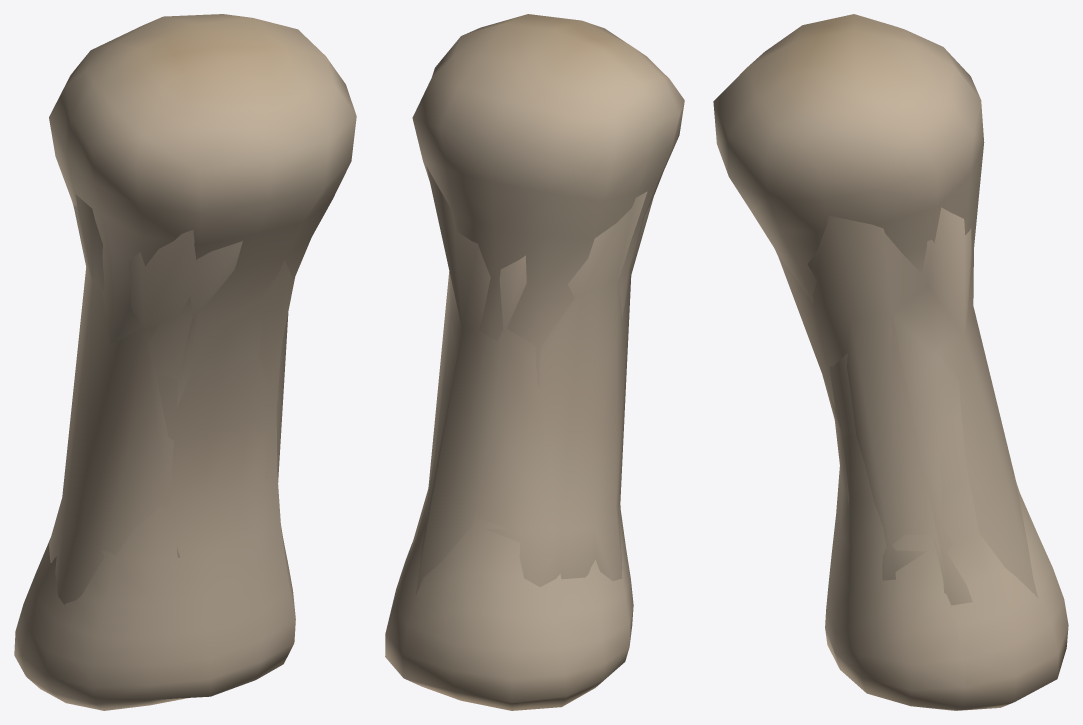
The model's file is vertebrae caudales 12.fbx.
3 renders of one model, left to right at view 1: azimuth 30°, elevation 25°; view 2: azimuth 150°, elevation 25°; view 3: azimuth 270°, elevation 25°, orthographic. The views are drawn at different scales.
Parts seen in each view (by area): view 1: vertebrae caudales 12, vertebrae caudales 12 low; view 2: vertebrae caudales 12, vertebrae caudales 12 low; view 3: vertebrae caudales 12, vertebrae caudales 12 low.
Part boxes in pixels (x1,y1,x2,y2): vertebrae caudales 12: (14, 14, 356, 710); vertebrae caudales 12 low: (49, 194, 294, 604); vertebrae caudales 12: (385, 14, 684, 710); vertebrae caudales 12 low: (411, 166, 654, 596); vertebrae caudales 12: (713, 14, 1068, 710); vertebrae caudales 12 low: (776, 207, 1038, 605).
Bounding box in the file's own units: 1.14 × 2.93 × 1.48.
Materials: 1 (1 with a texture image).
